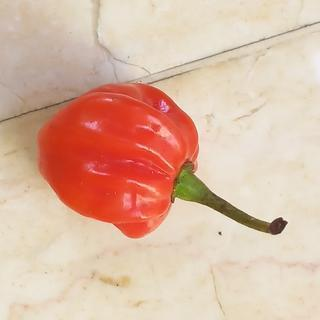Grade-B: (35, 79, 199, 240)
